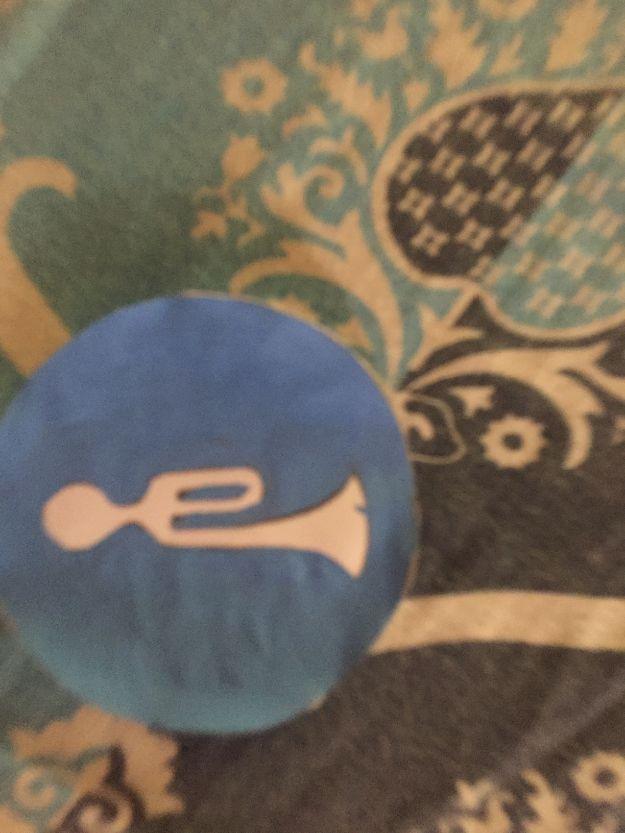blow-horn: (2, 299, 430, 727)
